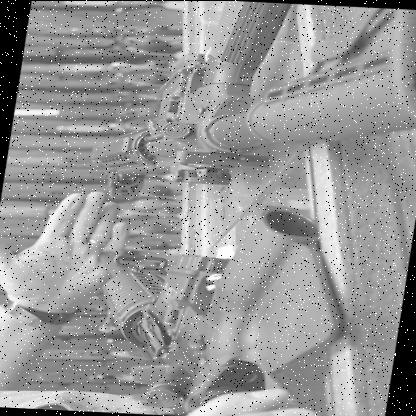rifle: (84, 0, 416, 211), (64, 240, 270, 416)
